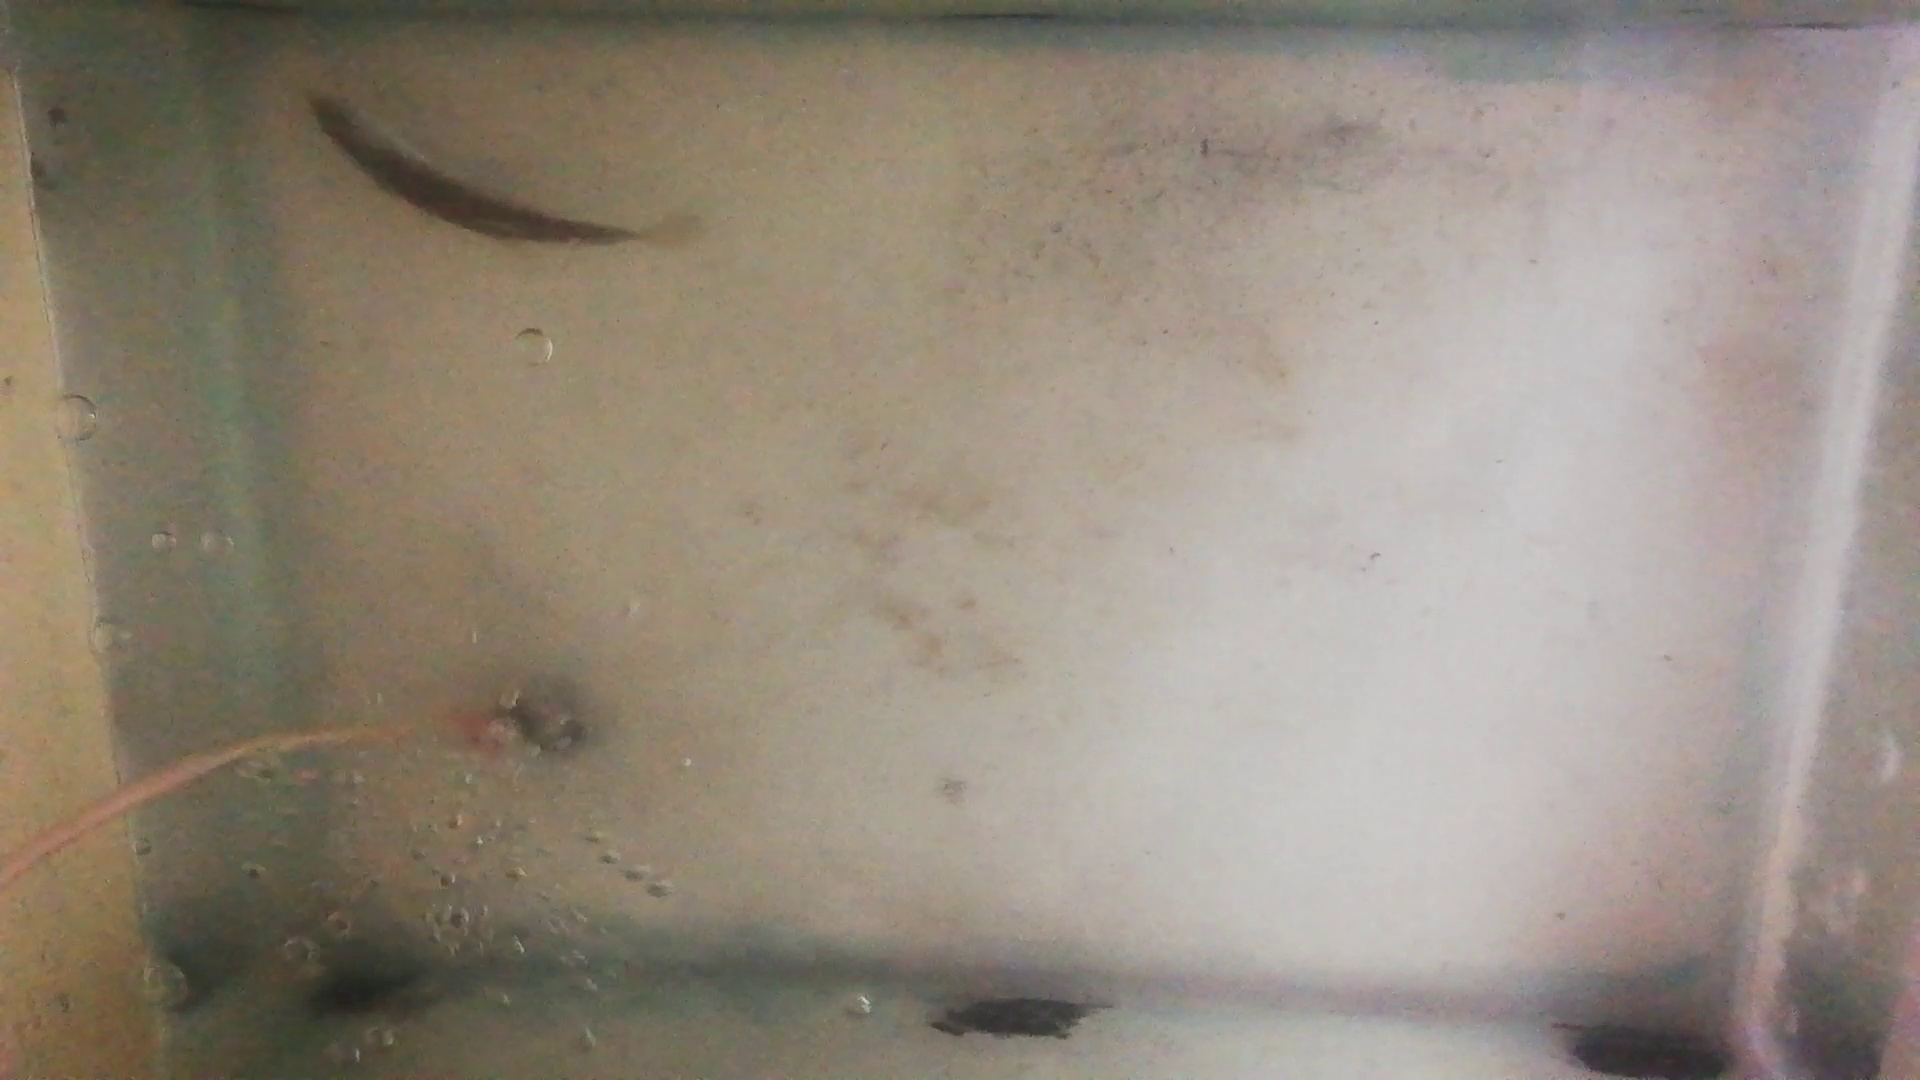fish: (307, 86, 501, 241), (450, 189, 640, 260)
